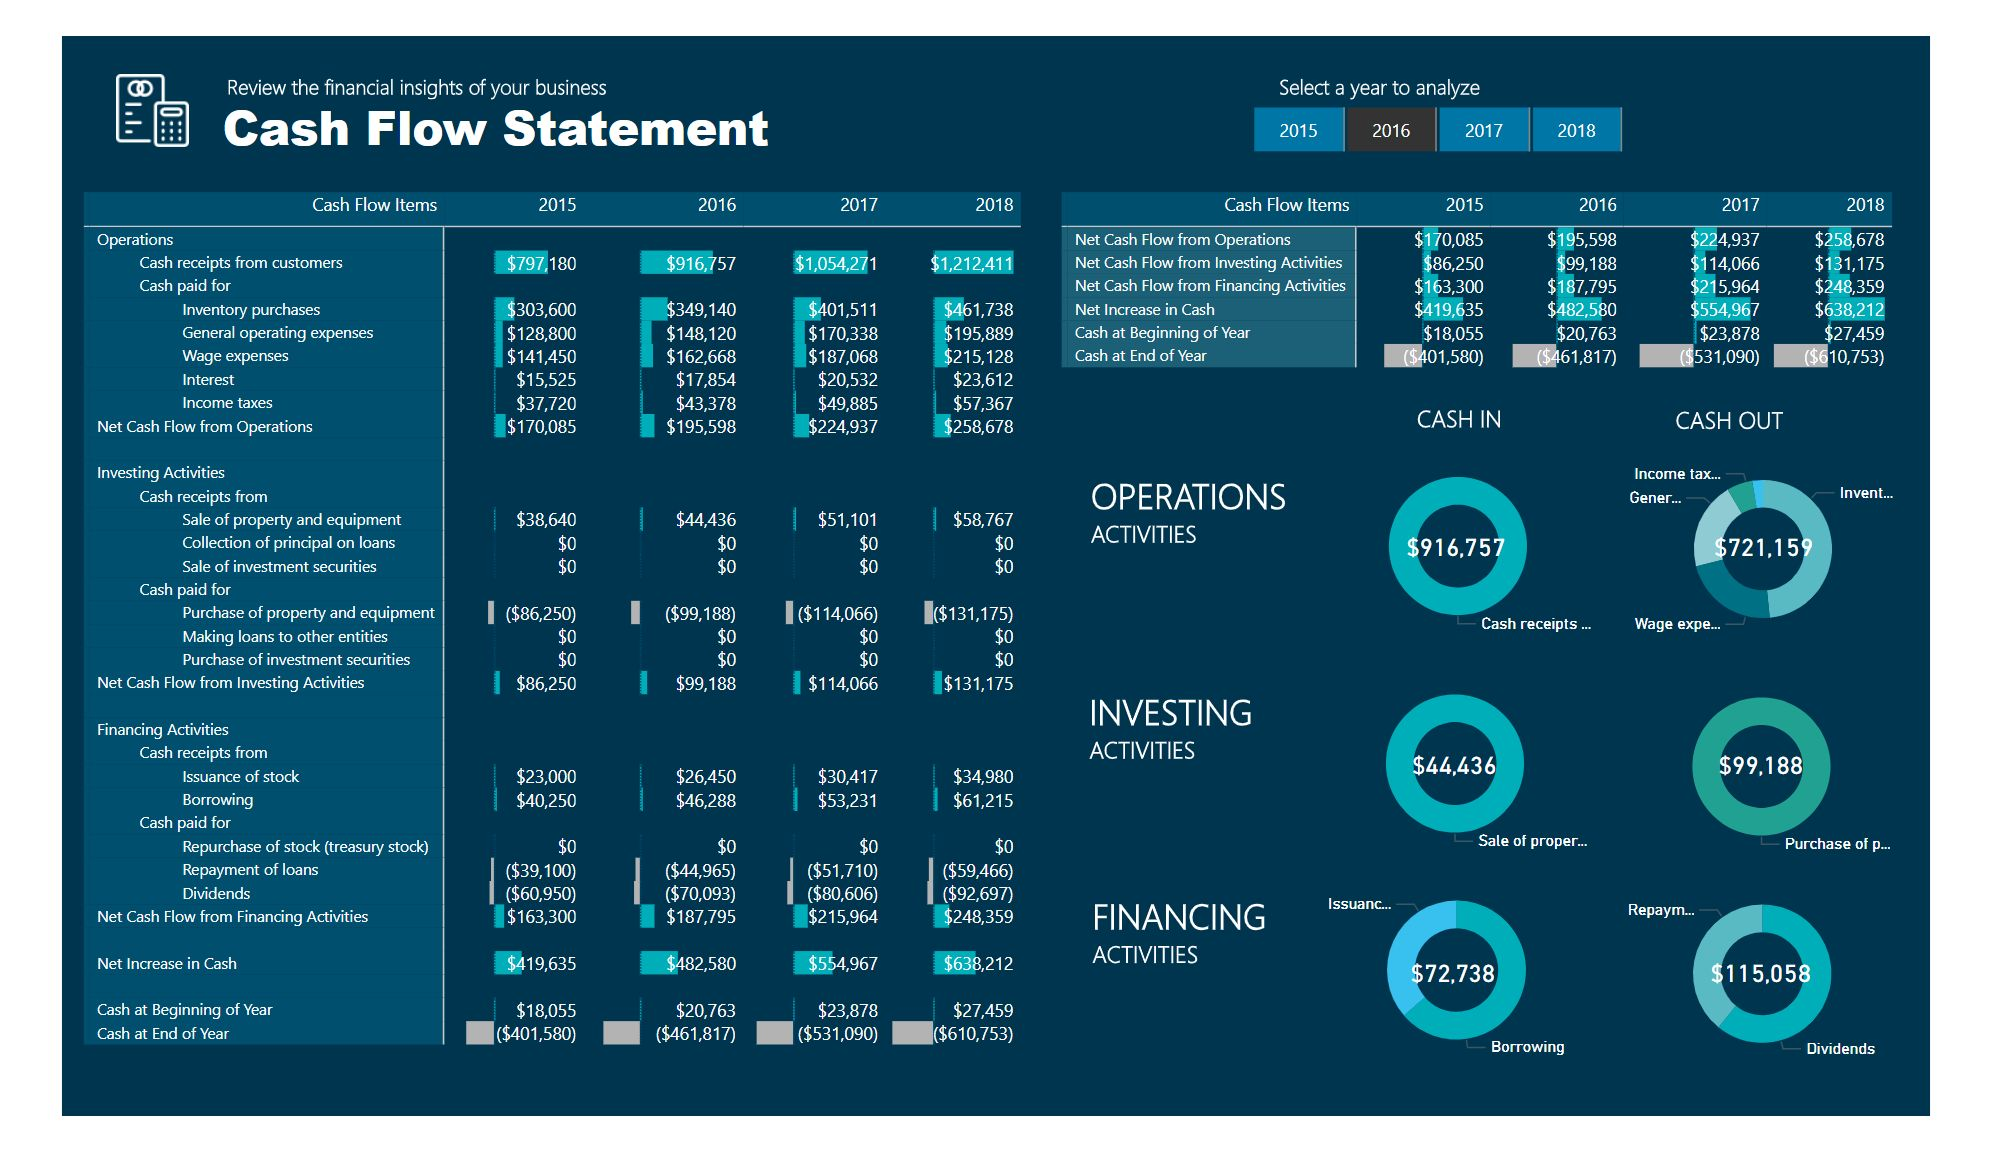

The dashboard page shown, as its layout file describes it:
{"tool":"powerbi","page":{"name":"Cash Flow Statement","canvas":[1280,720],"ordinal":4},"visuals":[{"type":"textbox","box":[105.4,14.7,447.5,67.4],"z":0},{"type":"donutChart","fields":{"Category":["Cash Flow Data.Cash Flow Sub Category"],"Y":["Cash Flow Analysis.Absolute C/F Values"]},"box":[858.5,259.5,195.2,139.1],"z":1000},{"type":"textbox","box":[107.6,0,291.5,34.4],"z":2000},{"type":"image","box":[18.3,1.1,88.2,60.2],"z":3000},{"type":"slicer","fields":{"Values":["Dates.Year"]},"box":[790.6,21.7,302.2,44.5],"z":4000},{"type":"textbox","box":[829.5,0,197.2,31.1],"z":5000},{"type":"pivotTable","fields":{"Rows":["Cash Flow Template.Row Index","Cash Flow Template.Cash Flow Items"],"Values":["Cash Flow Analysis.C/F Values"],"Columns":["Dates.Year"]},"box":[9.8,82.1,663.3,617.9],"z":8000},{"type":"pivotTable","fields":{"Rows":["Cash Flow Template.Row Index","Cash Flow Template.Cash Flow Items"],"Values":["Cash Flow Analysis.C/F Values"],"Columns":["Dates.Year"]},"box":[680.1,82.3,593.9,137.4],"z":9000},{"type":"textbox","box":[699.7,273,170.3,73.7],"z":10000},{"type":"textbox","box":[698.7,421.5,170.3,73.7],"z":11000},{"type":"textbox","box":[700.7,560.6,170.3,72.7],"z":12000},{"type":"textbox","box":[898,226.3,119.4,37.4],"z":13000},{"type":"textbox","box":[1082.8,227.3,119.4,37.4],"z":14000},{"type":"donutChart","fields":{"Category":["Cash Flow Data.Cash Flow Sub Category"],"Y":["Cash Flow Analysis.Absolute C/F Values"]},"box":[1068.2,261.6,195.2,139.1],"z":15000},{"type":"donutChart","fields":{"Category":["Cash Flow Data.Cash Flow Sub Category"],"Y":["Cash Flow Analysis.Absolute C/F Values"]},"box":[857.1,408.6,195.2,139.1],"z":16000},{"type":"donutChart","fields":{"Category":["Cash Flow Data.Cash Flow Sub Category"],"Y":["Cash Flow Analysis.Absolute C/F Values"]},"box":[1066.8,410.7,195.2,139.1],"z":17000},{"type":"donutChart","fields":{"Category":["Cash Flow Data.Cash Flow Sub Category"],"Y":["Cash Flow Analysis.Absolute C/F Values"]},"box":[857.8,550.5,195.2,139.1],"z":18000},{"type":"donutChart","fields":{"Category":["Cash Flow Data.Cash Flow Sub Category"],"Y":["Cash Flow Analysis.Absolute C/F Values"]},"box":[1067.5,552.6,195.2,139.1],"z":19000},{"type":"card","fields":{"Values":["Cash Flow Analysis.Absolute C/F Values"]},"box":[902.1,312.5,105.9,37.4],"z":20000},{"type":"card","fields":{"Values":["Cash Flow Analysis.Absolute C/F Values"]},"box":[1112.9,312.5,105.9,37.4],"z":21000},{"type":"card","fields":{"Values":["Cash Flow Analysis.Absolute C/F Values"]},"box":[900.7,461.6,105.9,37.4],"z":22000},{"type":"card","fields":{"Values":["Cash Flow Analysis.Absolute C/F Values"]},"box":[1111.4,461.6,105.9,37.4],"z":23000},{"type":"card","fields":{"Values":["Cash Flow Analysis.Absolute C/F Values"]},"box":[900.3,604.5,105.9,37.4],"z":24000},{"type":"card","fields":{"Values":["Cash Flow Analysis.Absolute C/F Values"]},"box":[1111.1,604.5,105.9,37.4],"z":25000}]}

Visuals, with their boxes in screenshot pixels (x1, y1, x2, y2), scaled from the page's 1280x720 canvas onto the 1992x1152 screenshot:
textbox: rect(164, 24, 860, 131)
donutChart - Cash Flow Data.Cash Flow Sub Category x Cash Flow Analysis.Absolute C/F Values: rect(1336, 415, 1640, 638)
textbox: rect(167, 0, 621, 55)
image: rect(28, 2, 166, 98)
slicer - Dates.Year: rect(1230, 35, 1701, 106)
textbox: rect(1291, 0, 1598, 50)
pivotTable - Cash Flow Template.Row Index x Cash Flow Template.Cash Flow Items: rect(15, 131, 1048, 1120)
pivotTable - Cash Flow Template.Row Index x Cash Flow Template.Cash Flow Items: rect(1058, 132, 1983, 352)
textbox: rect(1089, 437, 1354, 555)
textbox: rect(1087, 674, 1352, 792)
textbox: rect(1090, 897, 1355, 1013)
textbox: rect(1398, 362, 1583, 422)
textbox: rect(1685, 364, 1871, 424)
donutChart - Cash Flow Data.Cash Flow Sub Category x Cash Flow Analysis.Absolute C/F Values: rect(1662, 419, 1966, 641)
donutChart - Cash Flow Data.Cash Flow Sub Category x Cash Flow Analysis.Absolute C/F Values: rect(1334, 654, 1638, 876)
donutChart - Cash Flow Data.Cash Flow Sub Category x Cash Flow Analysis.Absolute C/F Values: rect(1660, 657, 1964, 880)
donutChart - Cash Flow Data.Cash Flow Sub Category x Cash Flow Analysis.Absolute C/F Values: rect(1335, 881, 1639, 1103)
donutChart - Cash Flow Data.Cash Flow Sub Category x Cash Flow Analysis.Absolute C/F Values: rect(1661, 884, 1965, 1107)
card - Cash Flow Analysis.Absolute C/F Values: rect(1404, 500, 1569, 560)
card - Cash Flow Analysis.Absolute C/F Values: rect(1732, 500, 1897, 560)
card - Cash Flow Analysis.Absolute C/F Values: rect(1402, 739, 1567, 798)
card - Cash Flow Analysis.Absolute C/F Values: rect(1730, 739, 1894, 798)
card - Cash Flow Analysis.Absolute C/F Values: rect(1401, 967, 1566, 1027)
card - Cash Flow Analysis.Absolute C/F Values: rect(1729, 967, 1894, 1027)
